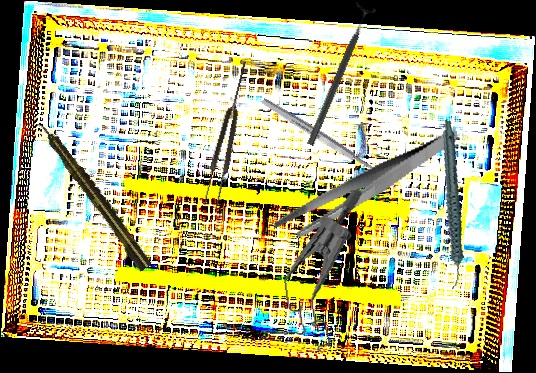Dressing Forceps: (262, 127, 473, 244)
Fixation Ring: (298, 0, 378, 150)
Handpiece: (33, 117, 154, 273), (415, 119, 488, 291)
Speculum: (269, 188, 385, 357)
Surgical Spoon: (260, 96, 394, 185)
Tissue Forceps: (201, 58, 255, 209)
